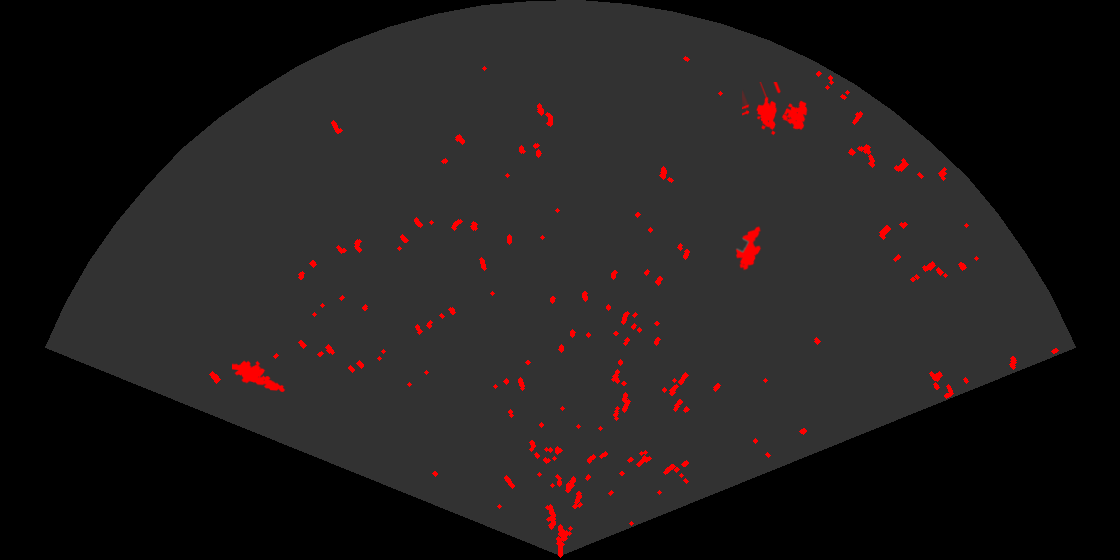AUV: (734, 225, 763, 272)
cage: (742, 82, 809, 137)
frogman: (232, 359, 287, 394)
